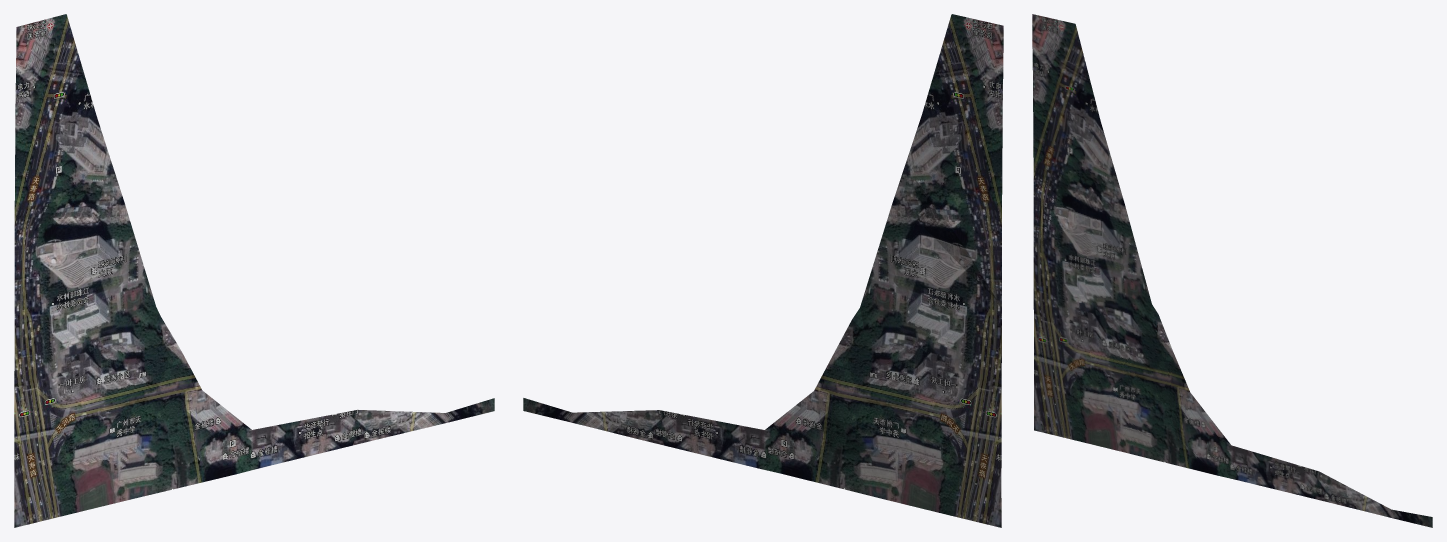
3 views of the same model, side by side, from view 1: azimuth 30°, elevation 25°; view 2: azimuth 150°, elevation 25°; view 3: azimuth 330°, elevation 25° (orthographic). The views are drawn at different scales.
Visible parts, largest first — view 1: 0_1_2_0_0_3; view 2: 0_1_2_0_0_3; view 3: 0_1_2_0_0_3.
Part boxes in pixels (left/top/right/bottom): 0_1_2_0_0_3: left=14, top=14, right=494, bottom=527; 0_1_2_0_0_3: left=523, top=14, right=1003, bottom=527; 0_1_2_0_0_3: left=1032, top=14, right=1432, bottom=527.
Size of the model in its own units: 486 by 486 by 8.27.
1 material, 1 textured.
